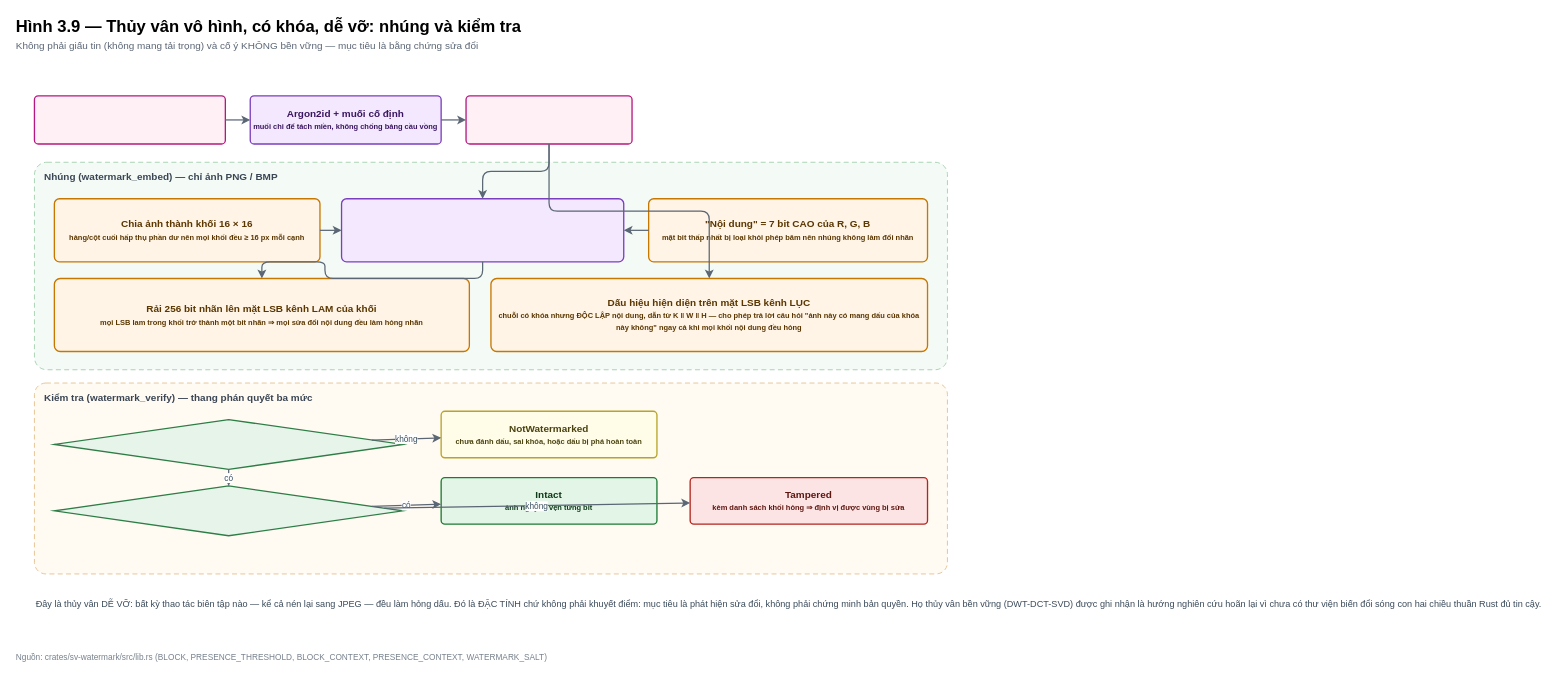
This 1555x676 diagram has some shape labels left out. Each missing label, with the centre of its shape:
Bit dấu hiệu khớp ≥ 75 %?: the point at 228,444
Khóa K (32 byte) không bao giờ được lưu: the point at 548,119
Mật khẩu người dùng: the point at 129,119
Mọi khối tái tính đều khớp?: the point at 228,510
Nhãn từng khối BLAKE3::keyed_hash(K, ngữ cảnh ‖ W ‖ H ‖ bx ‖ by ‖ nội dung): the point at 482,230
